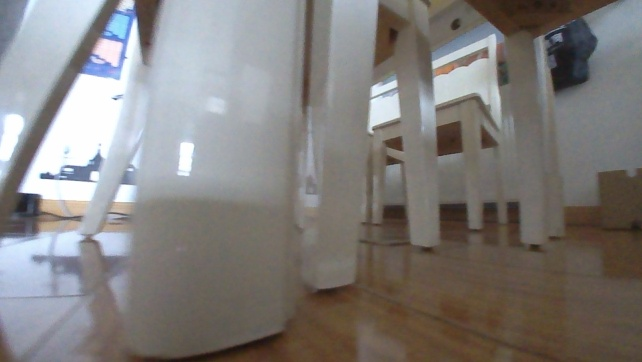dining_table1: (0, 0, 641, 360)
wire: (40, 209, 134, 221)
